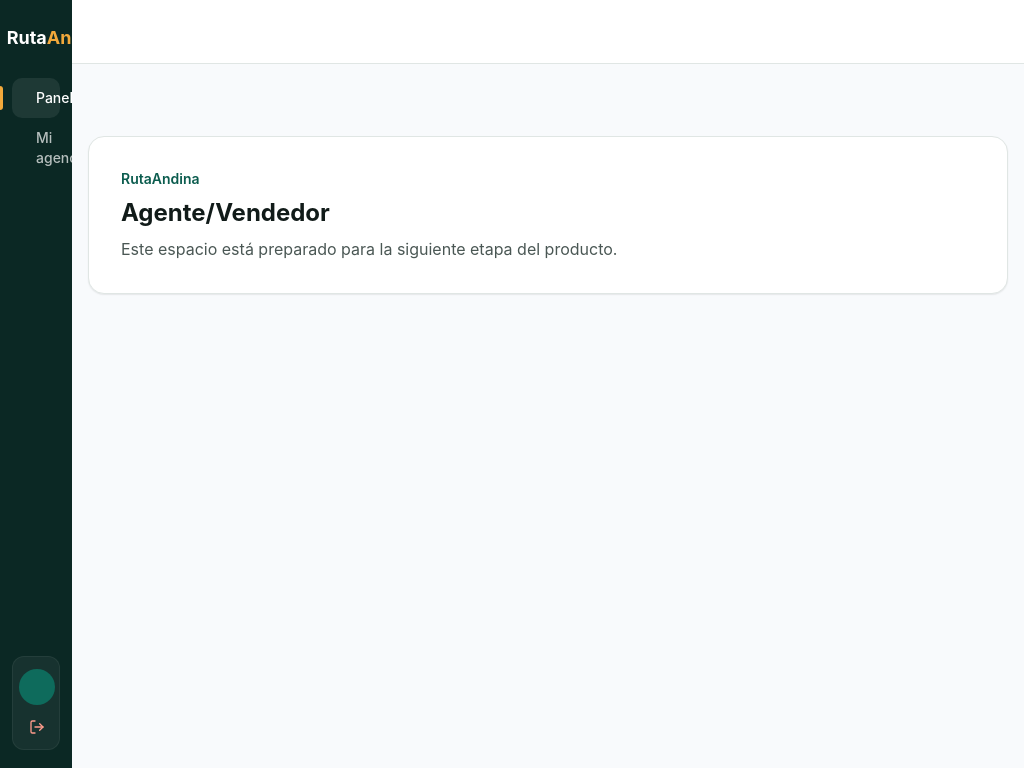
it: role routes and layouts › closes the staff session and returns to staff login
Step 1. Click the button named "cerrar sesión" → (37, 727), box [17,711,57,743]
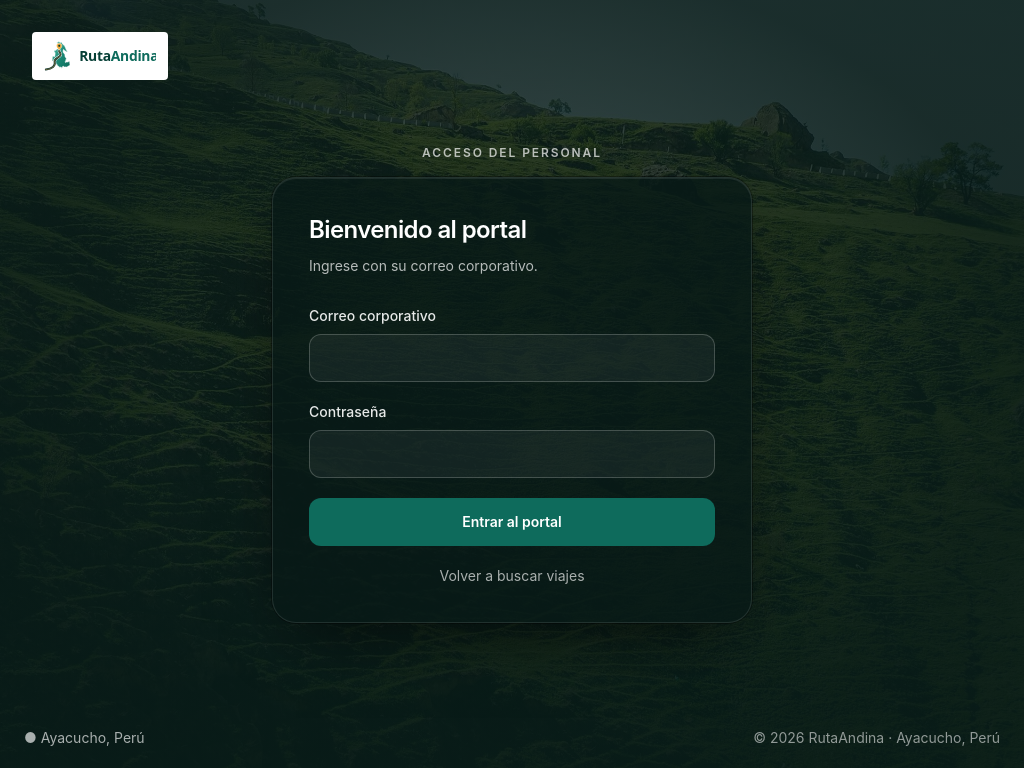
Now the heading "Bienvenido al portal" is shown, box [309,215,526,244]
